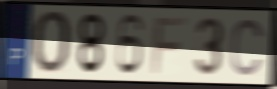3: (192, 15, 226, 77)
6: (115, 12, 146, 78)
8: (77, 12, 106, 76)
C: (228, 16, 266, 79)
F: (149, 16, 189, 76)
O: (31, 9, 74, 76)
